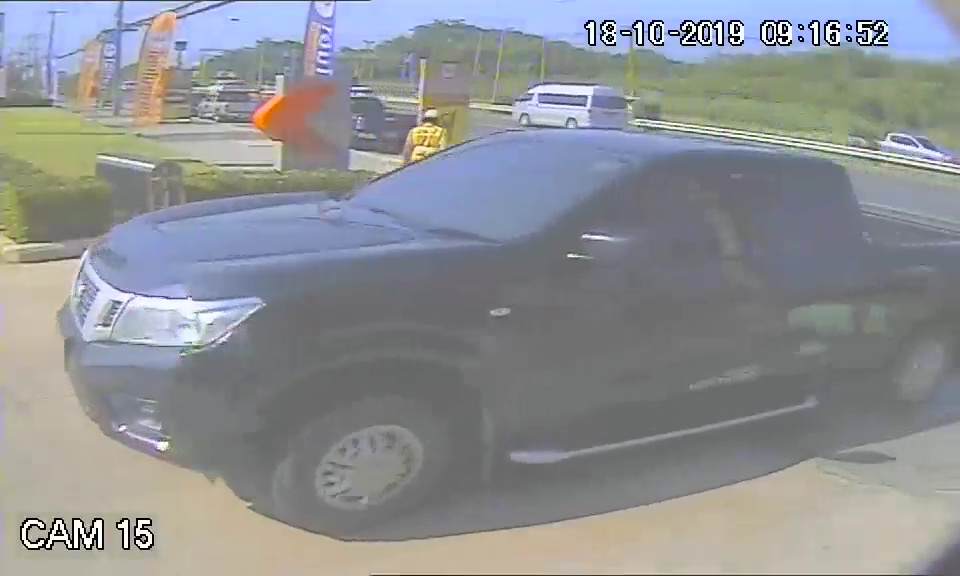pickup: (57, 130, 934, 520)
